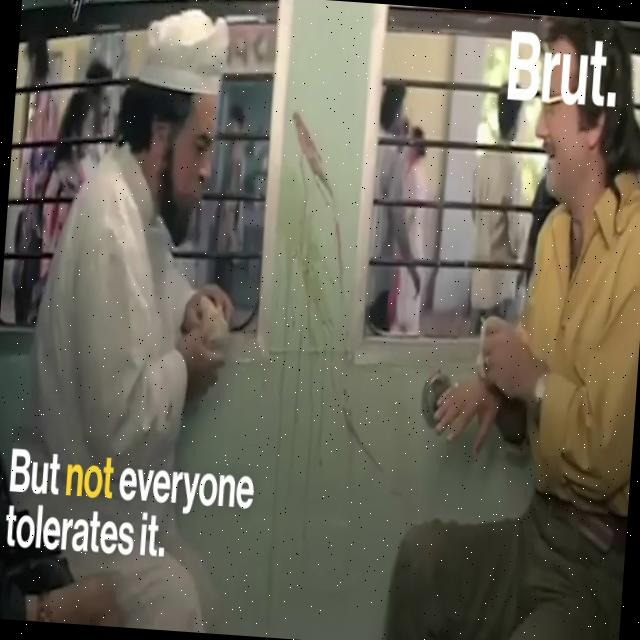spit: (267, 94, 396, 517)
